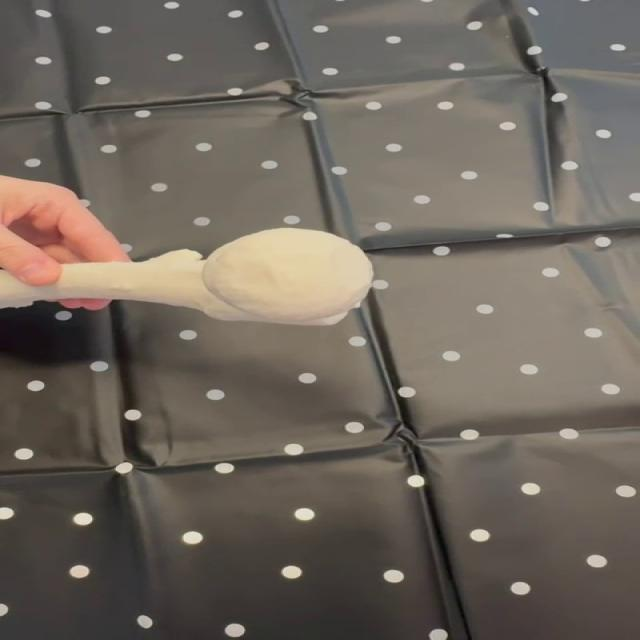bones: (0, 228, 373, 325)
